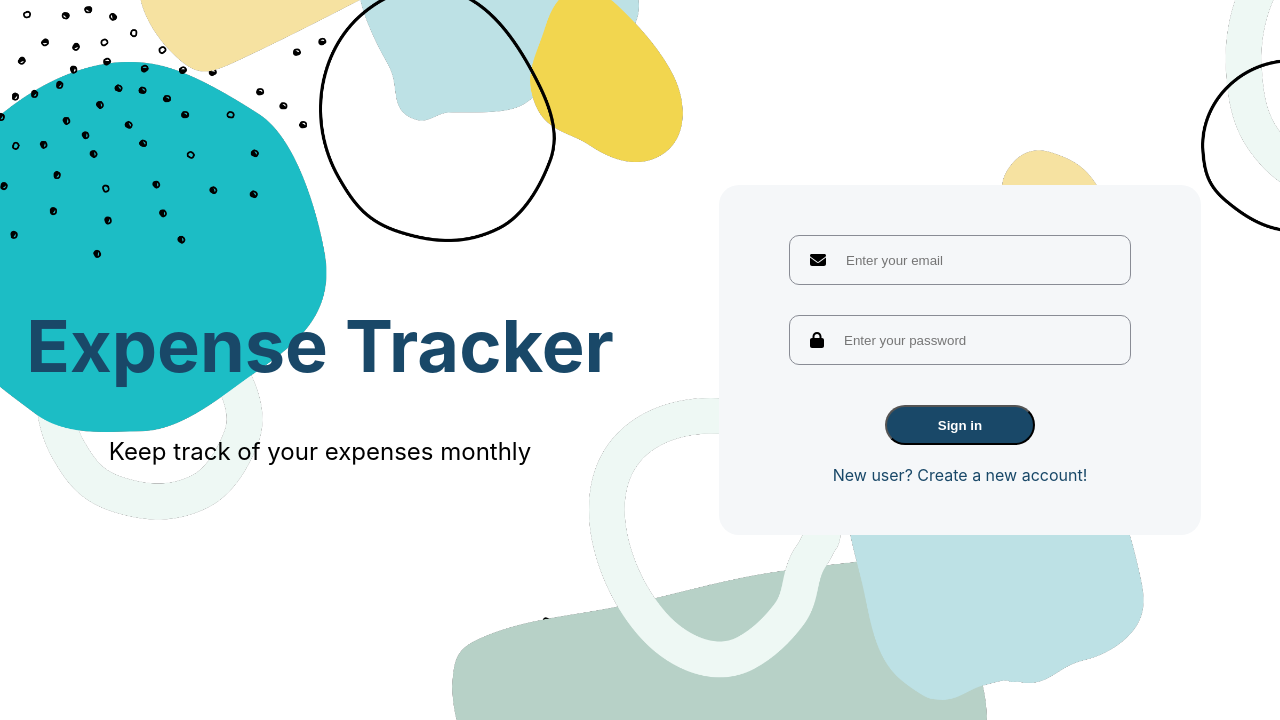
Test case: Login › when typing in email › if email is not in correct format › shows the correct error
Type "test" into the field with placeholder "Enter your email" at (962, 260), box [826, 234, 1098, 286]
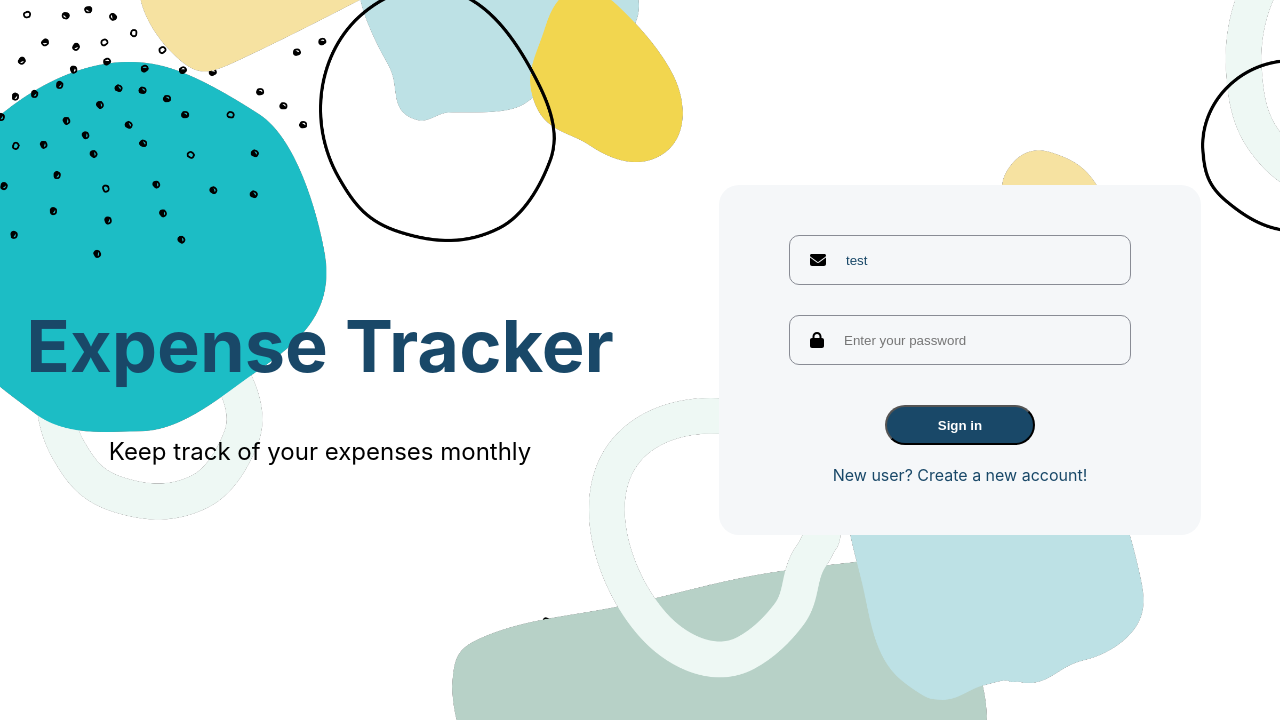
Click the heading "Expense Tracker" at (320, 346), box [26, 302, 614, 389]
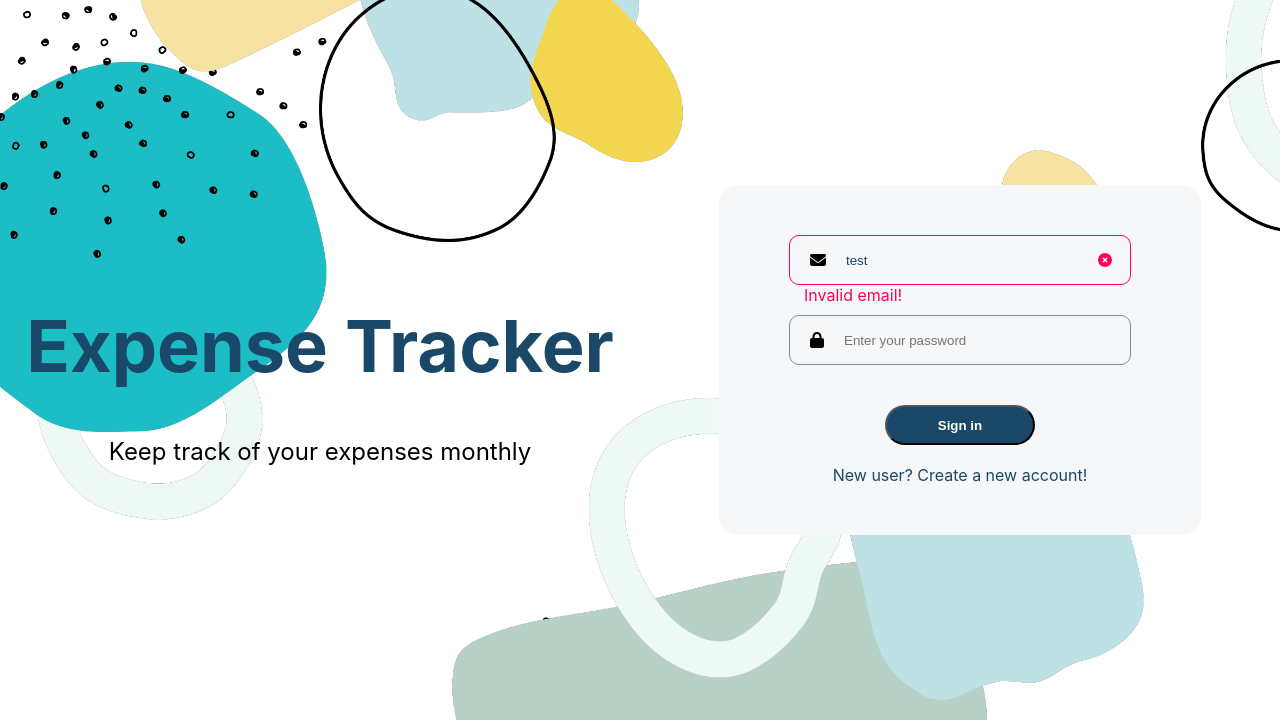
Expected: the text "Invalid email!" is shown, [804, 285, 902, 305]
